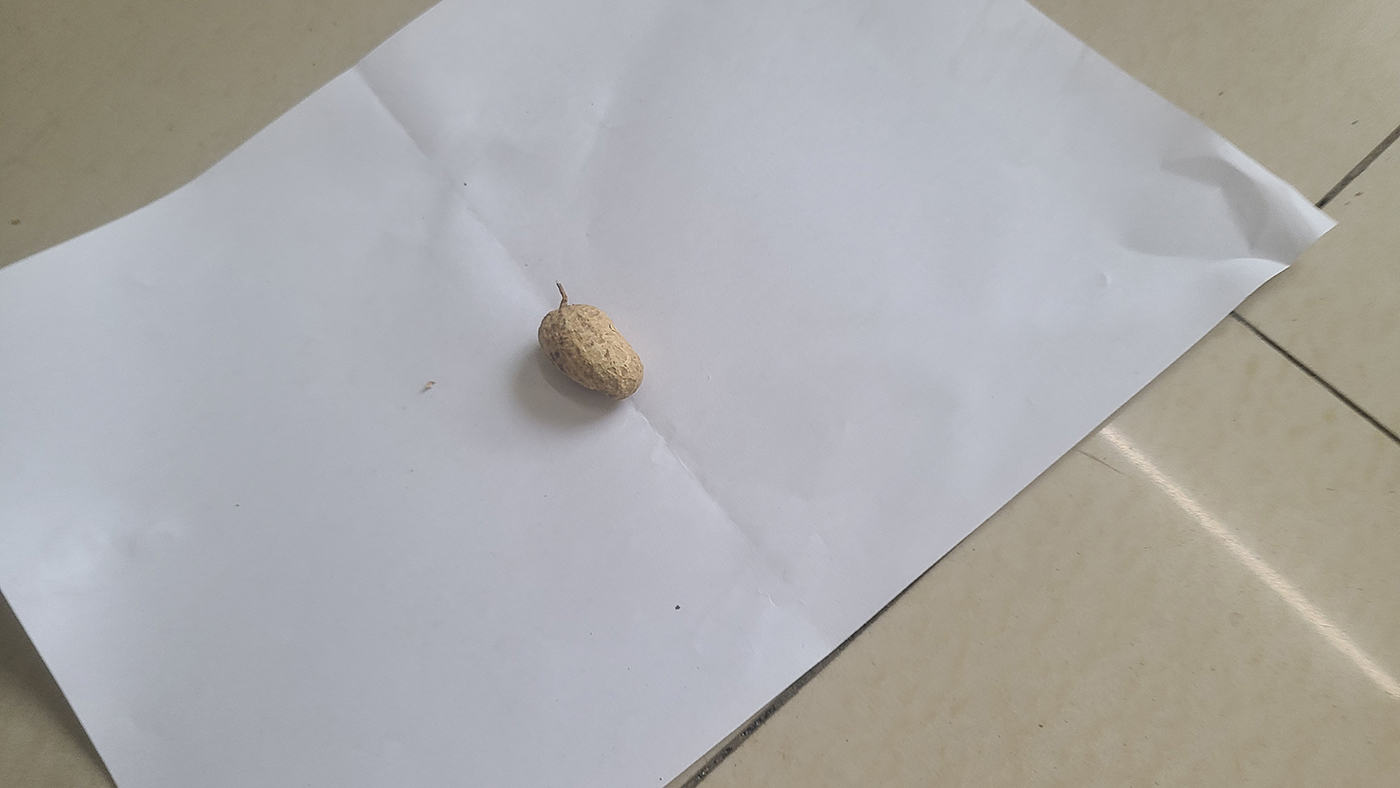h: (538, 303, 645, 398)
